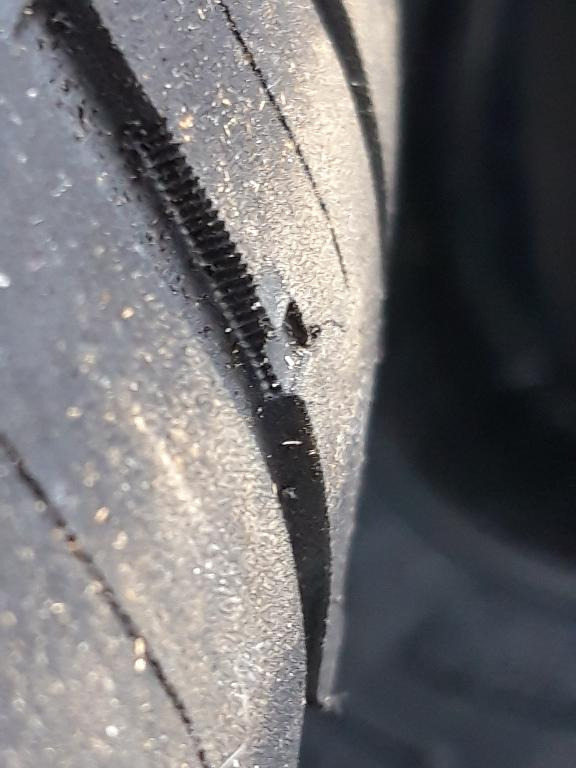temoin:25: (215, 253, 323, 414)
